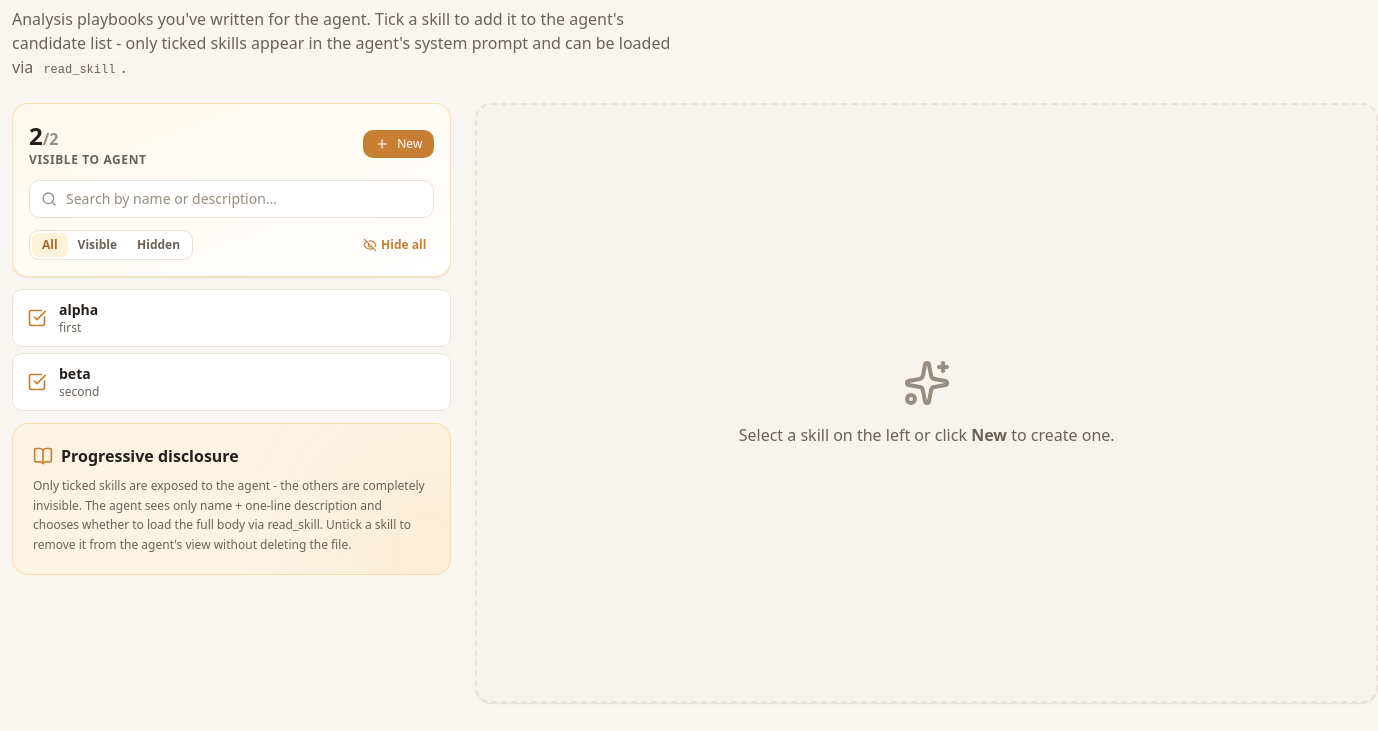
Skills › asks before discarding unsaved edits when switching skills
This screenshot has width=1378, height=731.
Click the text "alpha" at (79, 310), box x1=59 y1=300 x2=98 y2=319
(page scrolled)
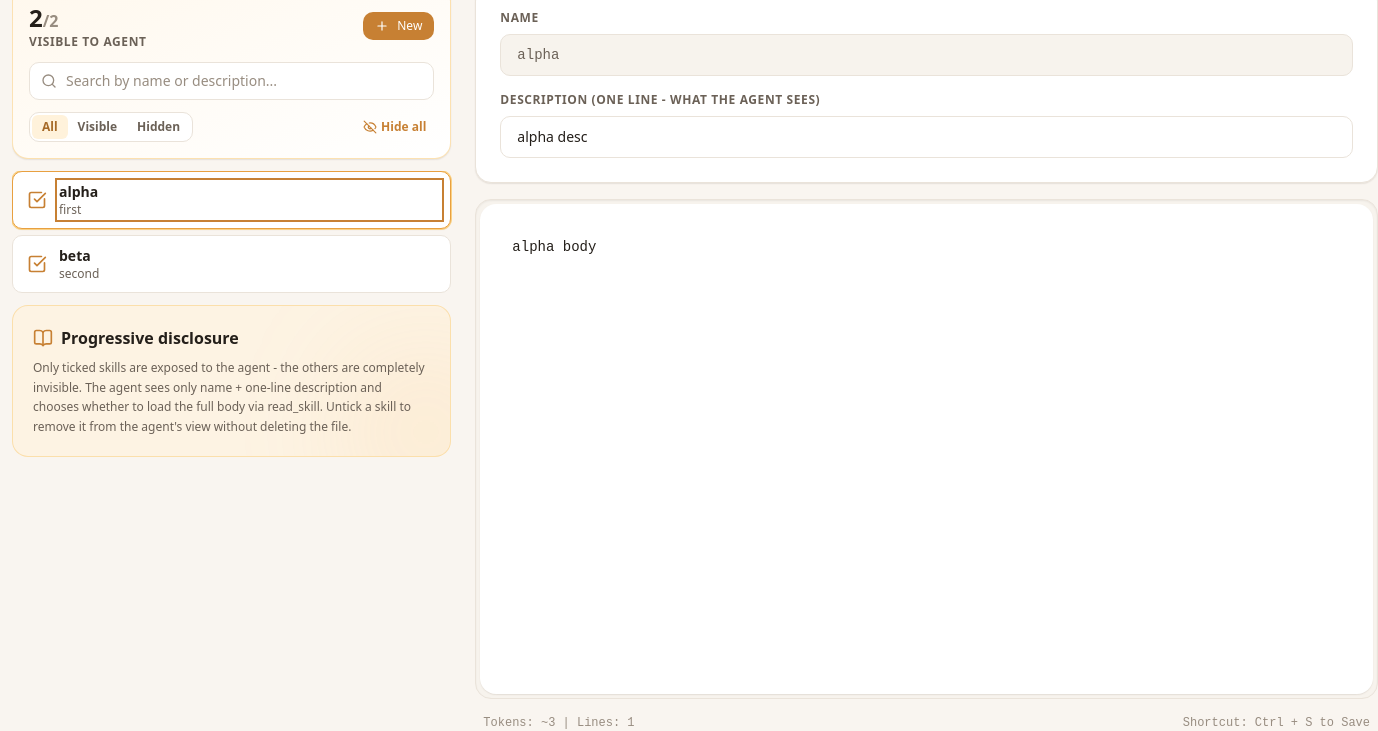
Expected: the text box named "Playbook body" holds "alpha body"
Type " EDITED" into the text box named "Playbook body" at (927, 449), box x1=480 y1=204 x2=1373 y2=694
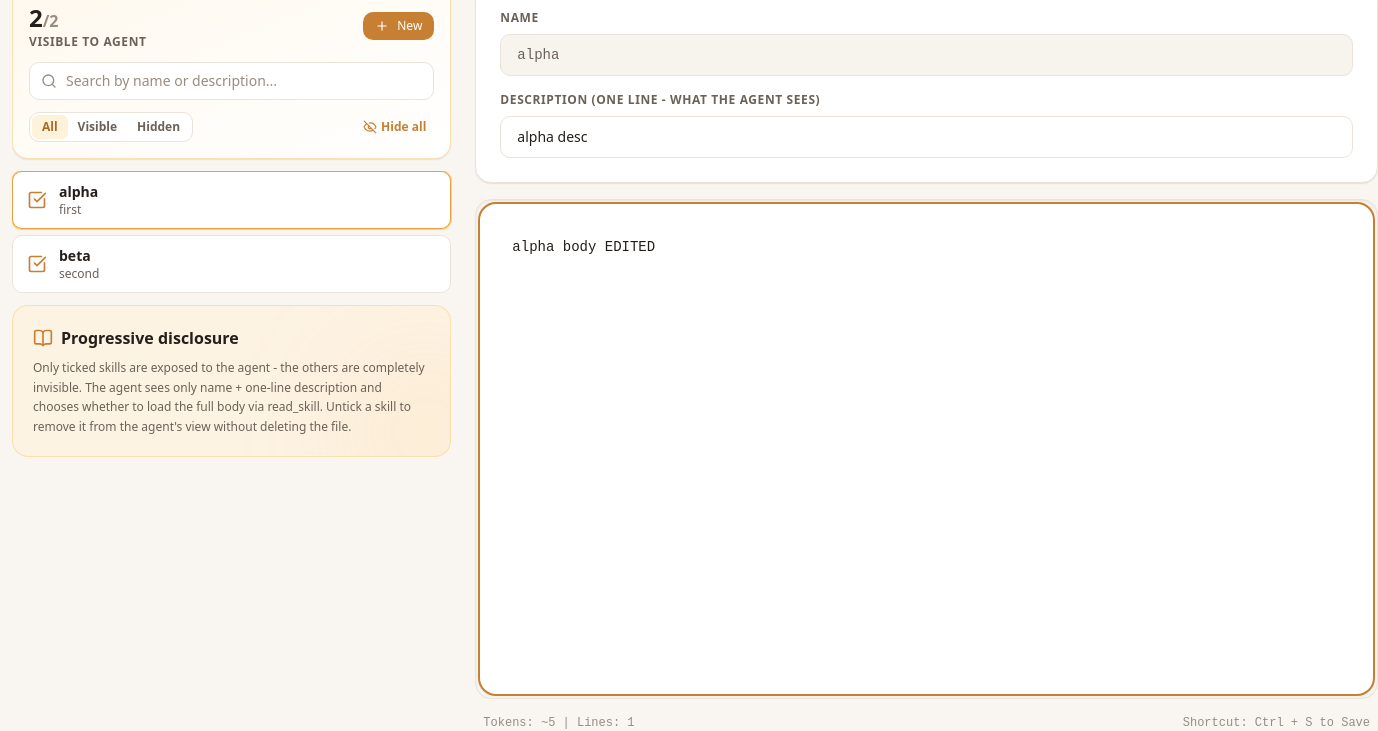
Click the text "beta" at (75, 256), box x1=59 y1=246 x2=91 y2=265
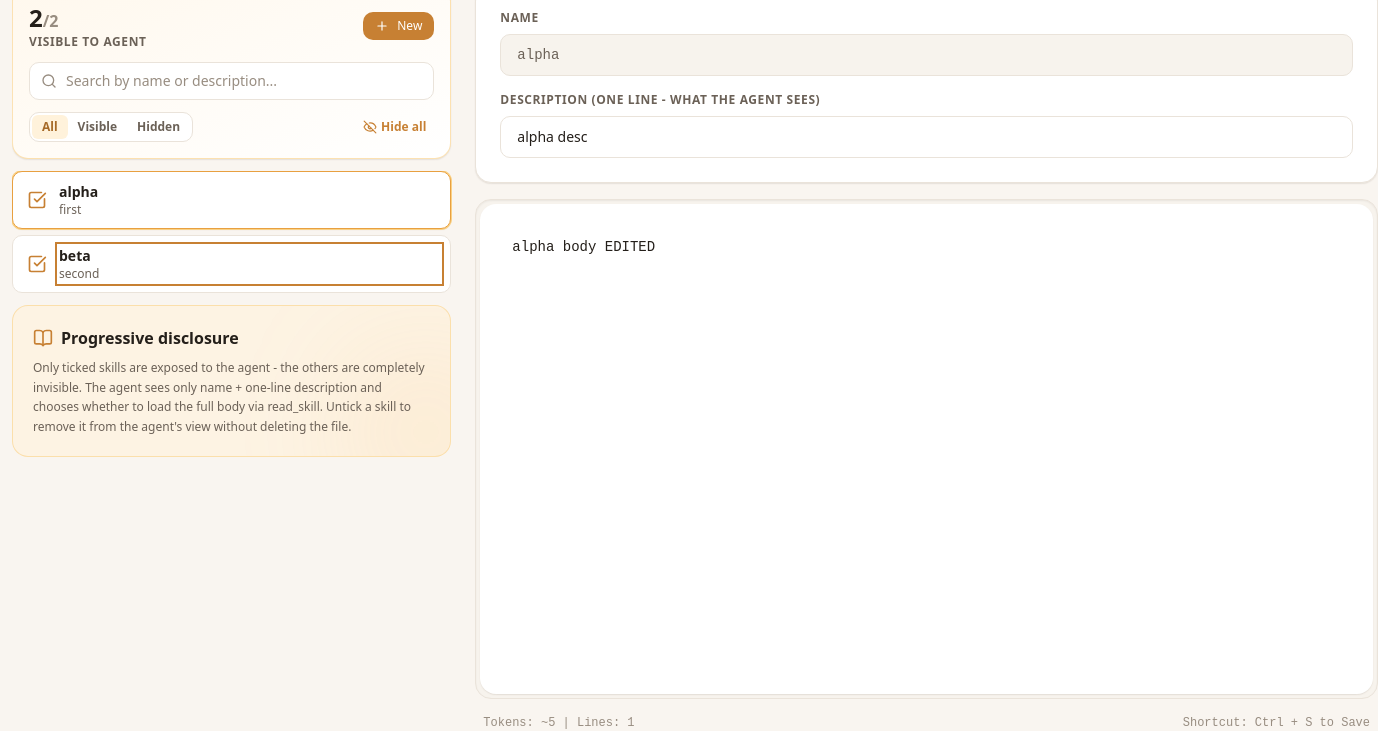
Expected: the text box named "Playbook body" holds "alpha body EDITED", x1=480 y1=204 x2=1373 y2=694
Click the text "beta" at (75, 256), box x1=59 y1=246 x2=91 y2=265
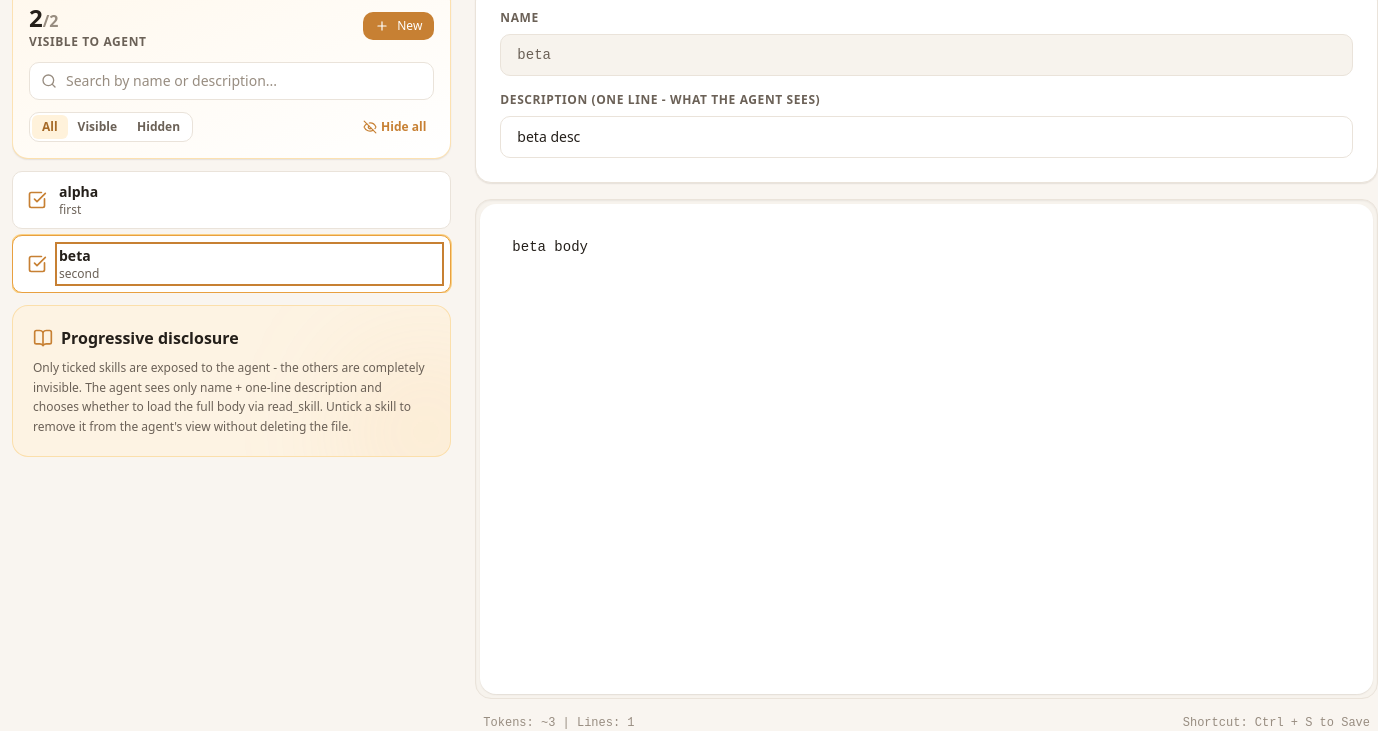
Expected: the text box named "Playbook body" holds "beta body", x1=480 y1=204 x2=1373 y2=694
